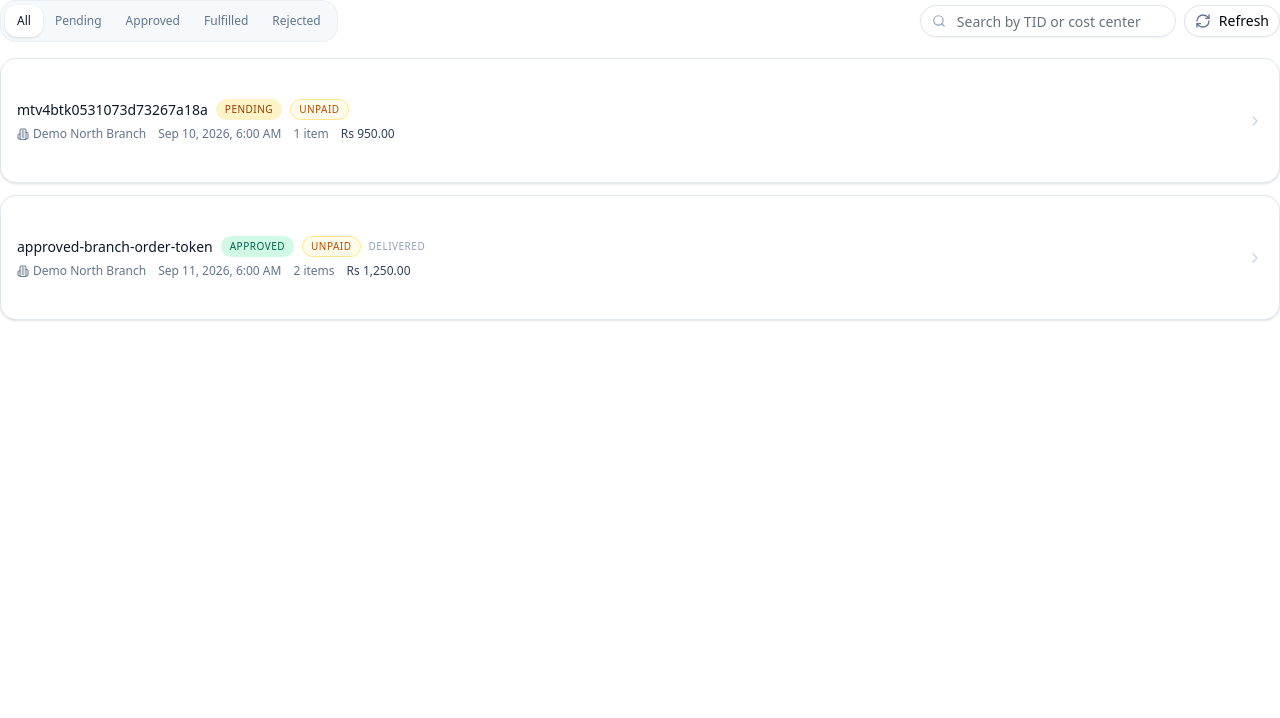
it: OtherBranchOrders › opens the shared order detail panel, which reports the same total
This screenshot has width=1280, height=718.
Click the button "mtv4btk0531073d73267a18a". click: coordinates (112, 109)
box: [1,83,1279,158]
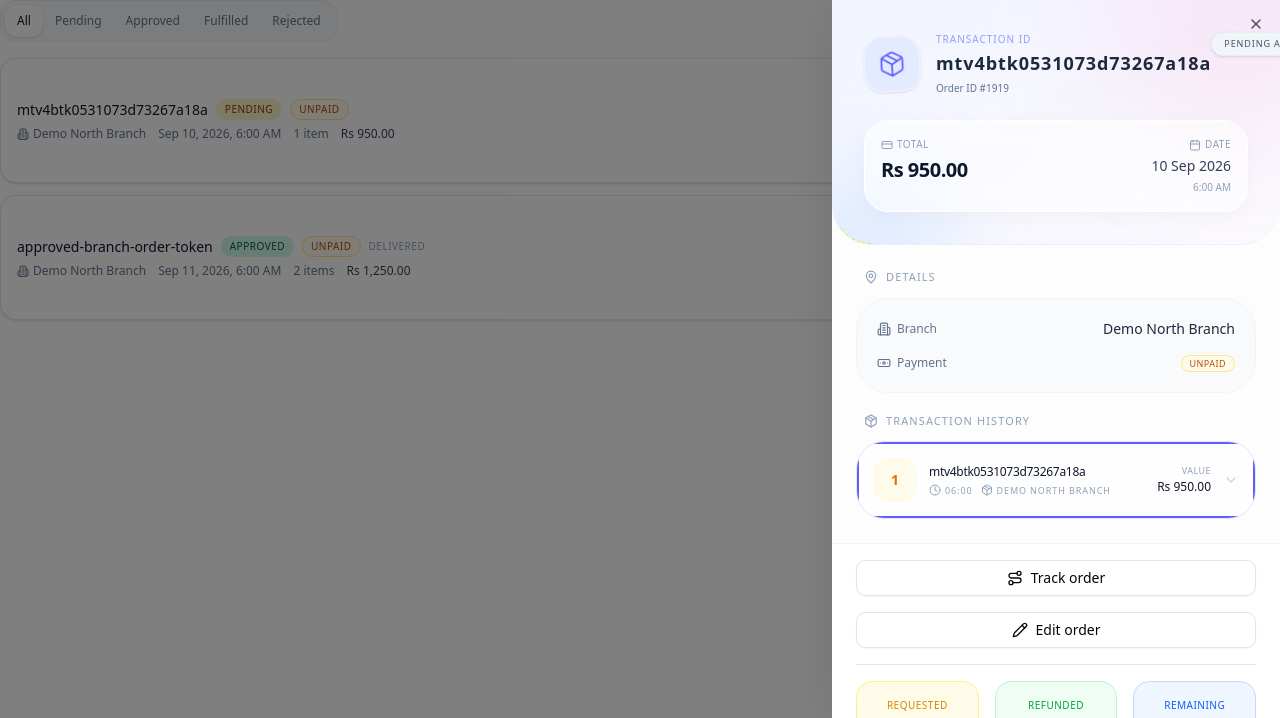
Result: the dialog shows "Rs 950" at [881,156,968,183]
